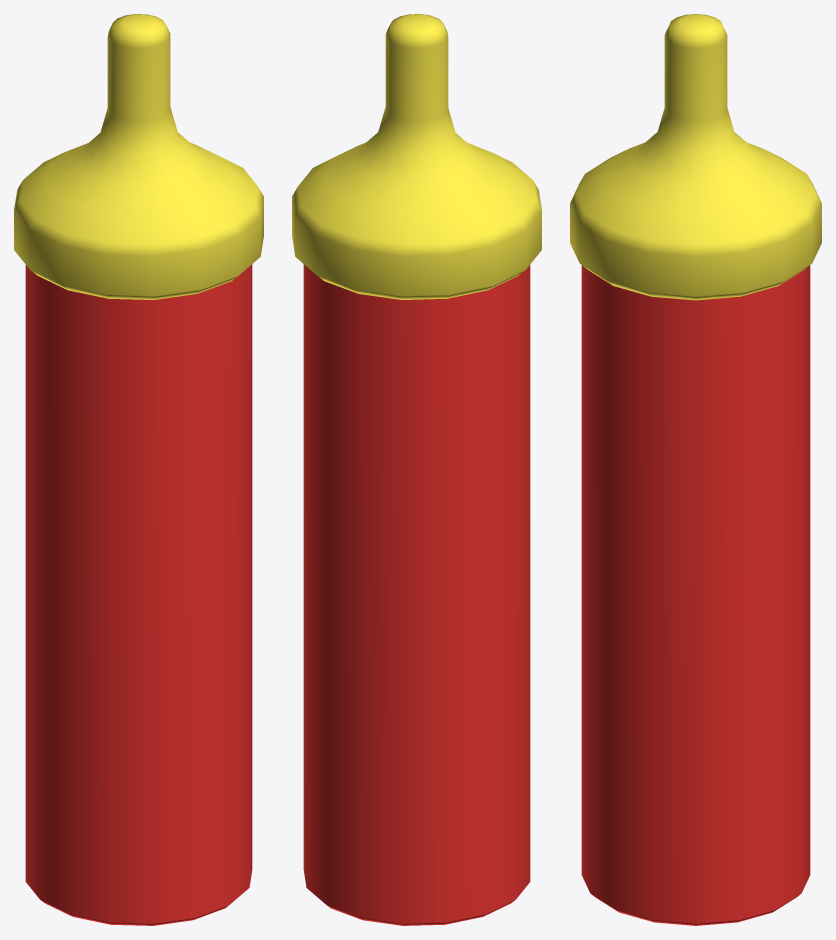
Rendered from Store_2_Mustard_1.glb.
3 renders of one model, left to right at view 1: azimuth 30°, elevation 25°; view 2: azimuth 150°, elevation 25°; view 3: azimuth 270°, elevation 25°, orthographic.
Visible parts, largest first — view 1: Store_2_Mustard_1; view 2: Store_2_Mustard_1; view 3: Store_2_Mustard_1.
Part boxes in pixels (box(x1,y1,x2,y2)): Store_2_Mustard_1: box(14, 14, 263, 925); Store_2_Mustard_1: box(292, 14, 541, 925); Store_2_Mustard_1: box(570, 14, 821, 925).
Size of the model in its own units: 0.1303 by 0.4898 by 0.1303.
1 material, 1 textured.
